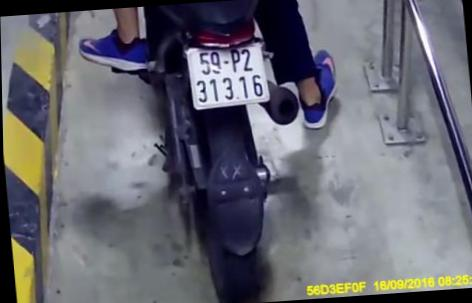LP: (185, 42, 272, 111)
